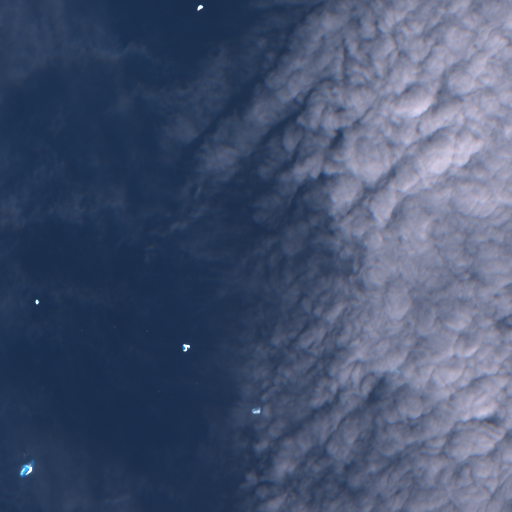Iceberg: (20, 462, 32, 476), (251, 407, 260, 413), (182, 344, 189, 351), (197, 4, 203, 11), (35, 299, 39, 304), (157, 390, 159, 392), (114, 326, 115, 327), (81, 330, 82, 331), (146, 330, 147, 331), (196, 383, 197, 384)
